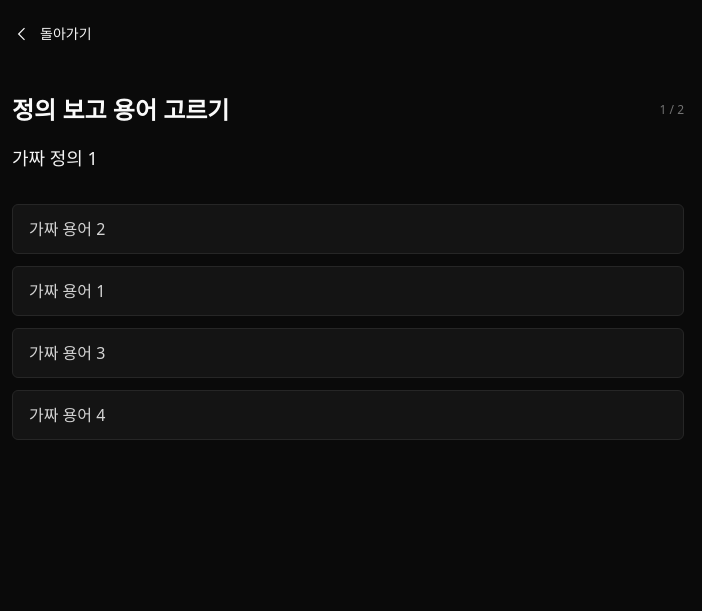
Test: KeywordQuizRunner › 정답을 누르면 정답 표시를 하고 짝을 보여 준다
Click the button "가짜 용어 1": (67, 291) [12, 266, 684, 316]
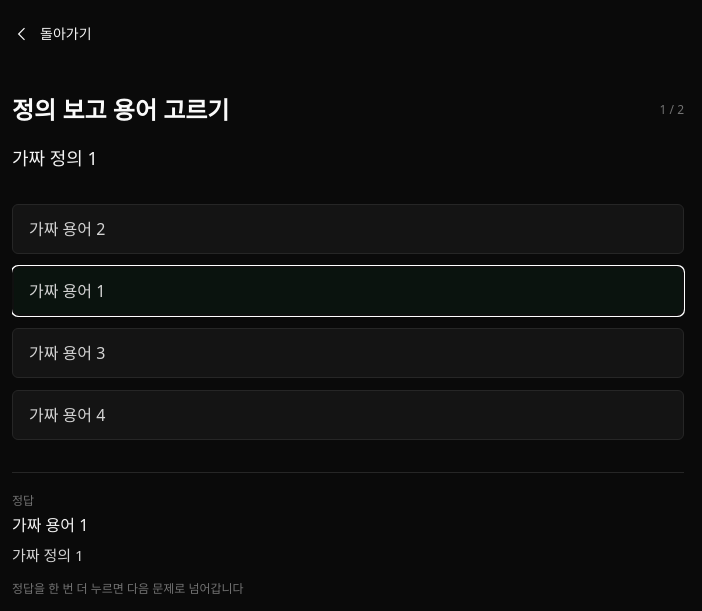
Check: the text "정답" is shown, box [12, 492, 34, 509]
